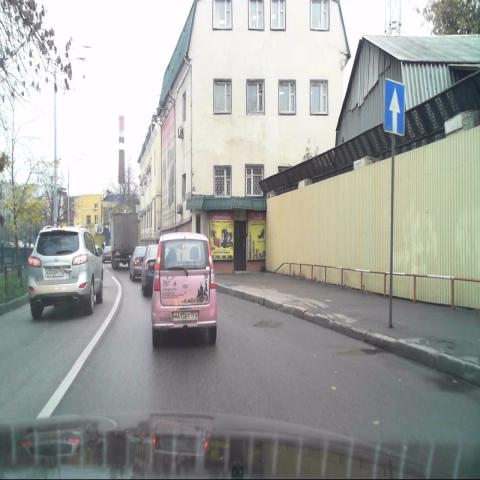5_5: (383, 78, 405, 137)
